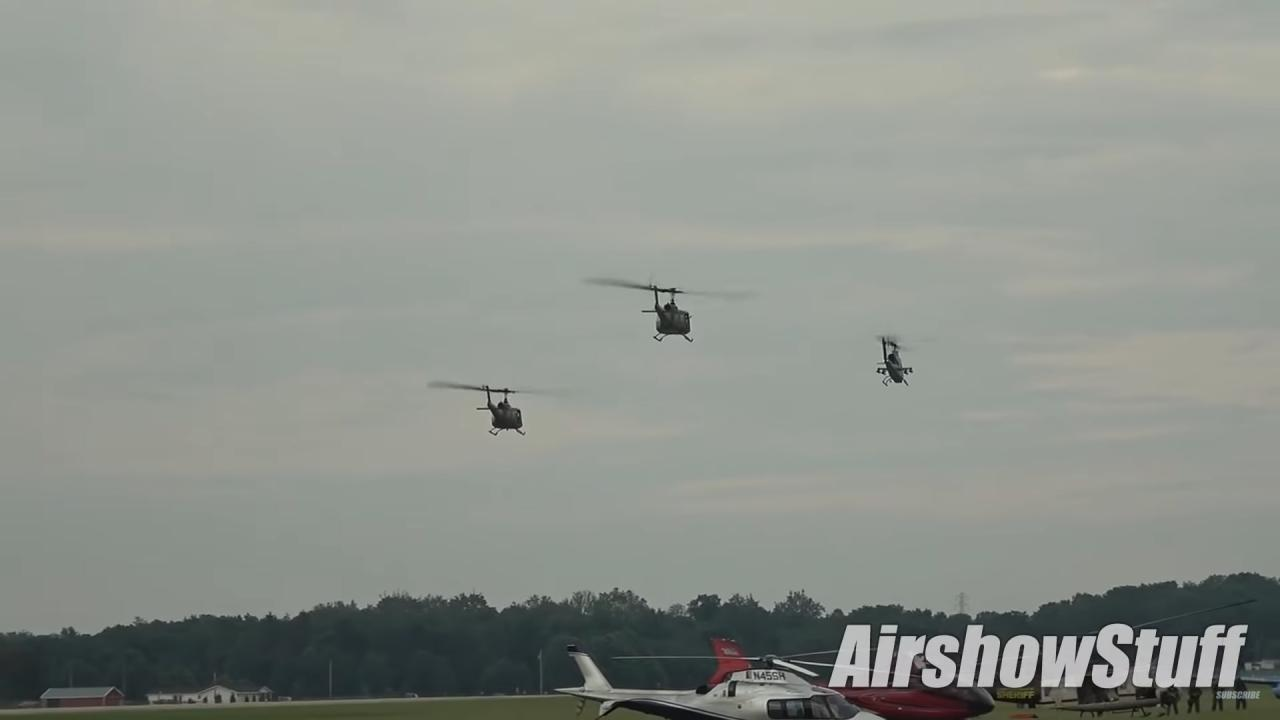Helicopter: (565, 263, 771, 350), (421, 369, 568, 444), (848, 318, 934, 398)
